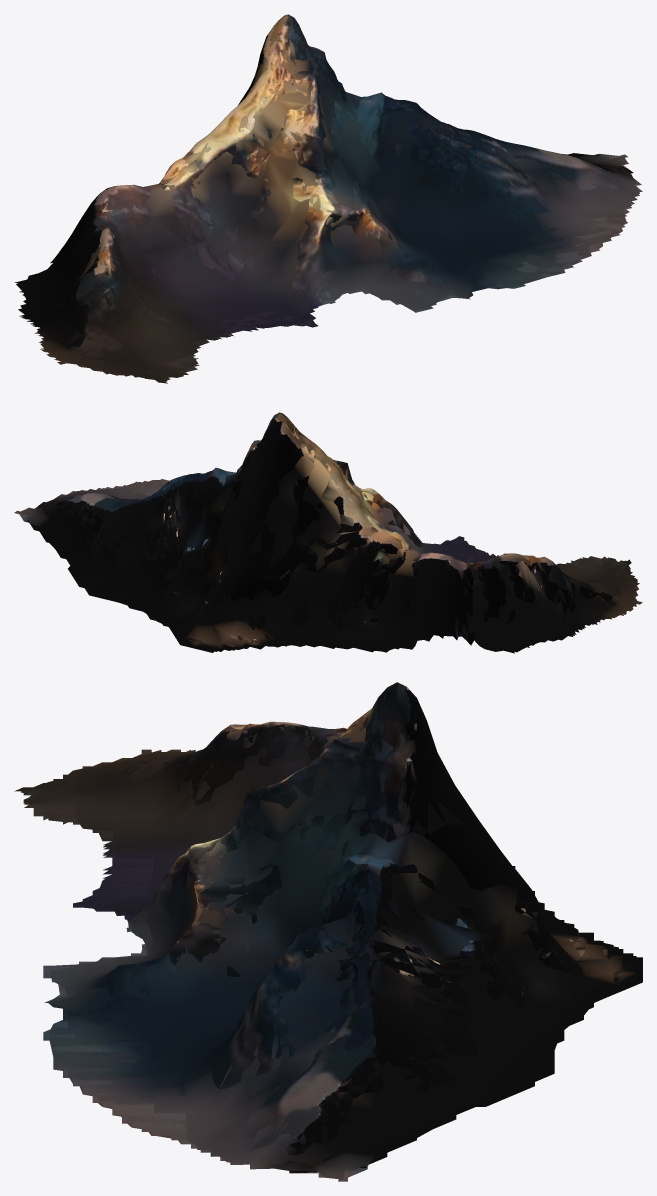
Rendered from gunung.glb.
3 renders of one model, top to bottom at view 1: azimuth 30°, elevation 25°; view 2: azimuth 150°, elevation 25°; view 3: azimuth 270°, elevation 25°, orthographic. The views are drawn at different scales.
Visible parts, largest first — view 1: Gunung_L2, Gunung_L0, Gunung_L1; view 2: Gunung_L0, Gunung_L2, Gunung_L1; view 3: Gunung_L2, Gunung_L0, Gunung_L1.
Part boxes in pixels (x1,y1,x2,y2): Gunung_L2: (16, 58, 639, 377); Gunung_L0: (15, 14, 642, 383); Gunung_L1: (20, 21, 639, 381); Gunung_L0: (14, 412, 642, 653); Gunung_L2: (18, 452, 636, 652); Gunung_L1: (20, 421, 637, 651); Gunung_L2: (24, 722, 637, 1179); Gunung_L0: (14, 682, 642, 1181); Gunung_L1: (21, 688, 637, 1171).
Bounding box in the file's own units: 15.44 × 4.73 × 9.5.
Materials: 2 (1 with a texture image).
